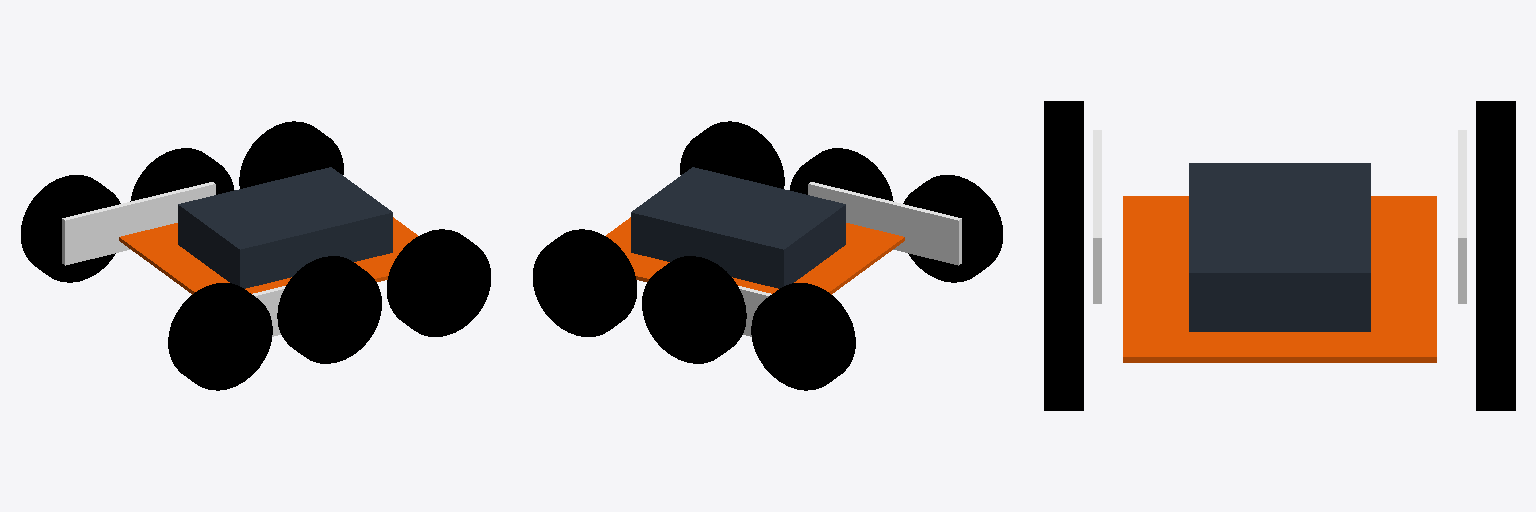
URDF robot description (myool_urdf):
<?xml version="1.0" encoding="utf-8"?>
<!-- This URDF was automatically created by SolidWorks to URDF Exporter! Originally created by [author] ([email redacted]) 
     Commit Version: 1.6.0-1-g15f4949  Build Version: 1.6.7594.29634
     For more information, please see http://wiki.ros.org/sw_urdf_exporter -->
<robot
  name="myool_urdf">
  
  <material name="black">
    <color rgba="0.0 0.0 0.0 1.0"/>
  </material>
  <material name="blue">
    <color rgba="0.203125 0.23828125 0.28515625 1.0"/>
  </material>
  <material name="green">
    <color rgba="0.0 0.8 0.0 1.0"/>
  </material>
  <material name="grey">
    <color rgba="0.2 0.2 0.2 1.0"/>
  </material>
  <material name="orange">
    <color rgba="1.0 0.423529411765 0.0392156862745 1.0"/>
  </material>
  <material name="brown">
    <color rgba="0.870588235294 0.811764705882 0.764705882353 1.0"/>
  </material>
  <material name="red">
    <color rgba="0.80078125 0.12890625 0.1328125 1.0"/>
  </material>
  <material name="white">
    <color rgba="1.0 1.0 1.0 1.0"/>
  </material>
  
  <gazebo reference="base_link">
    <material>Gazebo/Orange</material>
  </gazebo>
  <gazebo reference="myool_front_right_wheel">
    <material>Gazebo/Black</material>
  </gazebo>
  <gazebo reference="myool_front_left_wheel">
    <material>Gazebo/Black</material>
  </gazebo>  
  <gazebo reference="myool_rear_right_rocker_rear_wheel">
    <material>Gazebo/Black</material>
  </gazebo>  
  <gazebo reference="myool_rear_right_rocker_center_wheel">
    <material>Gazebo/Black</material>
  </gazebo>  
  <gazebo reference="myool_rear_left_rocker_rear_wheel">
    <material>Gazebo/Black</material>
  </gazebo>  
  <gazebo reference="myool_rear_left_rocker_center_wheel">
    <material>Gazebo/Black</material>
  </gazebo>  
  <gazebo reference="myool_battery">
    <material>Gazebo/Blue</material>
  </gazebo>    
<!--  
<gazebo>
    
	<plugin filename="libgazebo_ros_diff_drive.so" name="differential_drive_controller">
      <legacyMode>false</legacyMode>
      <alwaysOn>true</alwaysOn>
      <updateRate>20</updateRate>
      <leftJoint>myool_rear_left_rocker_center_joint</leftJoint>
	  <leftJoint>myool_front_left_joint</leftJoint>
	  <leftJoint>myool_rear_left_rocker_rear_joint</leftJoint>
      <rightJoint>myool_rear_right_rocker_rear_joint</rightJoint>
	  <rightJoint>myool_front_right_joint</rightJoint>
	  <rightJoint>myool_rear_right_rocker_center_joint</rightJoint>
      <wheelSeparation>0.47472</wheelSeparation>
      <wheelDiameter>0.170</wheelDiameter>
      <torque>3.0</torque>
      <commandTopic>cmd_vel</commandTopic>
      <odometryTopic>odom</odometryTopic>
      <odometryFrame>odom</odometryFrame>
      <robotBaseFrame>base_link</robotBaseFrame>
    </plugin>
  </gazebo>
  

<gazebo>
  <plugin name="skid_steer_drive_controller" filename="libgazebo_ros_skid_steer_drive.so">
    <updateRate>20</updateRate>
    <robotNamespace>/</robotNamespace>
    <leftFrontJoint>myool_front_left_joint</leftFrontJoint>
    <rightFrontJoint>myool_front_right_joint</rightFrontJoint>
    <leftRearJoint>myool_rear_left_rocker_center_joint</leftRearJoint>
    <rightRearJoint>myool_rear_right_rocker_center_joint</rightRearJoint>
	<leftRearJoint>myool_rear_left_rocker_rear_joint</leftRearJoint>
    <rightRearJoint>myool_rear_right_rocker_rear_joint</rightRearJoint>
    <wheelSeparation>0.47472</wheelSeparation>
    <wheelDiameter>0.170</wheelDiameter>
    <robotBaseFrame>base_link</robotBaseFrame>
    <torque>2</torque>
    <topicName>cmd_vel</topicName>
    <broadcastTF>false</broadcastTF>
  </plugin>
</gazebo>
-->

  <gazebo>
    
	<plugin filename="libgazebo_ros_control.so" name="gazebo_ros_control">
    </plugin>
  </gazebo>
  
  <link
    name="base_link">
	<pose>0 0 0.08 0 0 0</pose>
    <inertial>
      <origin
        xyz="0 0 0"
        rpy="0 0 0" />
      <mass
        value="2.8701" />
      <inertia
        ixx="0.019918"
        ixy="0"
        ixz="0"
        iyy="0.042638"
        iyz="0"
        izz="0.061874" />
    </inertial>
    <visual>
      <origin
        xyz="0 0 0"
        rpy="0 0 0" />
      <geometry>
        <box size="0.42 0.345 0.007" />
      </geometry>
      <material
        name="orange">
      </material>
    </visual>
    <collision>
      <origin
        xyz="0 0 0"
        rpy="0 0 0" />
      <geometry>
        <box size="0.42 0.345 0.007" />
      </geometry>
    </collision>
  </link>
  <link
    name="myool_front_right_wheel">
    <inertial>
      <origin
        xyz="0 0 0"
        rpy="0 1.5707 1.5707" />
      <mass
        value="2.2" />
      <inertia
        ixx="0.005892"
        ixy="0"
        ixz="0"
        iyy="0.005892"
        iyz="0"
        izz="0.010838" />
    </inertial>
    <visual>
      <origin
        xyz="0 0 0"
        rpy="0 1.5707 1.5707" />
      <geometry>
        <cylinder length="0.0435" radius="0.085"/>
      </geometry>
      <material
        name="black">
      </material>
    </visual>
    <collision>
      <origin
        xyz="0 0 0"
        rpy="0 1.5707 1.5707" />
      <geometry>
        <cylinder length="0.0435" radius="0.085"/>
      </geometry>
    </collision>
  </link>
  <joint
    name="myool_front_right_joint"
    type="continuous">
    <origin
      xyz="0.14829 -0.23736 0.003175"
      rpy="0 0 0" />
    <parent
      link="base_link" />
    <child
      link="myool_front_right_wheel" />
    <axis
      xyz="0 1 0" />
	<limit effort="10000" velocity="100"/>
    <joint_properties damping="1.0" friction="1.0"/>
  </joint>
   <link
    name="myool_front_left_wheel">
    <inertial>
      <origin
        xyz="0 0 0"
        rpy="0 1.5707 1.5707" />
      <mass
        value="2.2" />
      <inertia
        ixx="0.005892"
        ixy="0"
        ixz="0"
        iyy="0.005892"
        iyz="0"
        izz="0.010838" />
	</inertial>
    <visual>
      <origin
        xyz="0 0 0"
        rpy="0 1.5707 1.5707" />
      <geometry>
        <cylinder length="0.0435" radius="0.085"/>
      </geometry>
      <material
        name="black">
      </material>
    </visual>
    <collision>
      <origin
        xyz="0 0 0"
        rpy="0 1.5707 1.5707" />
      <geometry>
        <cylinder length="0.0435" radius="0.085"/>
      </geometry>
    </collision>
  </link>
  <joint
    name="myool_front_left_joint"
    type="continuous">
    <origin
      xyz="0.14829 0.23736 0.003175"
      rpy="0 0 0" />
    <parent
      link="base_link" />
    <child
      link="myool_front_left_wheel" />
    <axis
      xyz="0 1 0" />
	<limit effort="10000" velocity="100"/>
    <joint_properties damping="1.0" friction="1.0"/>  
  </joint>
   <link
    name="myool_rear_right_rocker">
    <inertial>
      <origin
        xyz="0 0 0"
        rpy="0 0 0" />
      <mass
        value="0.32911" />
      <inertia
        ixx="0.00015526"
        ixy="0"
        ixz="0"
        iyy="0.0020318"
        iyz="0"
        izz="0.0018788" />
    </inertial>
    <visual>
      <origin
        xyz="0 0 0"
        rpy="0 0 0" />
      <geometry>
        <box size="0.28 0.01 0.08" />
      </geometry>
      <material
        name="white">
      </material>
    </visual>
    <collision>
      <origin
        xyz="0 0 0"
        rpy="0 0 0" />
      <geometry>
        <box size="0.28 0.01 0.08" />
      </geometry>
    </collision>
  </link>
  <joint
    name="myool_rear_right_joint"
    type="revolute">
    <origin
      xyz="-0.15651 -0.20097 0.003175"
      rpy="0 0 0" />
    <parent
      link="base_link" />
    <child
      link="myool_rear_right_rocker" />
    <axis
      xyz="0 1 0" />
	  <limit effort="10000" velocity="100" upper="0.523"/>
	  <joint_properties damping="0.0" friction="0"/>
  </joint>
  <link
    name="myool_rear_right_rocker_rear_wheel">
    <inertial>
      <origin
        xyz="0 0 0"
        rpy="0 1.5707 1.5707" />
      <mass
        value="2.2" />
      <inertia
        ixx="0.005892"
        ixy="0"
        ixz="0"
        iyy="0.005892"
        iyz="0"
        izz="0.010838" />
    </inertial>
    <visual>
      <origin
        xyz="0 0 0"
        rpy="0 1.5707 1.5707" />
      <geometry>
        <cylinder length="0.0435" radius="0.085"/>
      </geometry>
      <material
        name="black">
      </material>
    </visual>
    <collision>
      <origin
        xyz="0 0 0"
        rpy="0 1.5707 1.5707" />
      <geometry>
        <cylinder length="0.0435" radius="0.085"/>
      </geometry>
    </collision>
  </link>
  <joint
    name="myool_rear_right_rocker_rear_joint"
    type="continuous">
    <origin
      xyz="-0.25811 -0.23736 0.003175"
      rpy="0 0 0" />
    <parent
      link="base_link" />
    <child
      link="myool_rear_right_rocker_rear_wheel" />
    <axis
      xyz="0 1 0" />
	<limit effort="10000" velocity="100"/>
    <joint_properties damping="1.0" friction="1.0"/>
  </joint> 
    <link
    name="myool_rear_right_rocker_center_wheel">
    <inertial>
      <origin
        xyz="0 0 0"
        rpy="0 1.5707 1.5707" />
      <mass
        value="2.2" />
      <inertia
        ixx="0.005892"
        ixy="0"
        ixz="0"
        iyy="0.005892"
        iyz="0"
        izz="0.010838" />
    </inertial>
    <visual>
      <origin
        xyz="0 0 0"
        rpy="0 1.5707 1.5707" />
      <geometry>
        <cylinder length="0.0435" radius="0.085"/>
      </geometry>
      <material
        name="black">
      </material>
    </visual>
    <collision>
      <origin
        xyz="0 0 0"
        rpy="0 1.5707 1.5707" />
      <geometry>
        <cylinder length="0.0435" radius="0.085"/>
      </geometry>
    </collision>
  </link>
  <joint
    name="myool_rear_right_rocker_center_joint"
    type="continuous">
    <origin
      xyz="-0.05491 -0.23736 0.003175"
      rpy="0 0 0" />
    <parent
      link="base_link" />
    <child
      link="myool_rear_right_rocker_center_wheel" />
    <axis
      xyz="0 1 0" />
	<limit effort="10000" velocity="100"/>
    <joint_properties damping="1.0" friction="1.0"/>  
  </joint>
  <link
    name="myool_rear_left_rocker">
    <inertial>
      <origin
        xyz="0 0 0"
        rpy="0 0 0" />
      <mass
        value="0.32911" />
      <inertia
        ixx="0.00015526"
        ixy="0"
        ixz="0"
        iyy="0.0020318"
        iyz="0"
        izz="0.0018788" />
    </inertial>
    <visual>
      <origin
        xyz="0 0 0"
        rpy="0 0 0" />
      <geometry>
        <box size="0.28 0.01 0.08" />
      </geometry>
      <material
        name="white">
      </material>
    </visual>
    <collision>
      <origin
        xyz="0 0 0"
        rpy="0 0 0" />
      <geometry>
        <box size="0.28 0.01 0.08" />
      </geometry>
    </collision>
  </link>
  <joint
    name="myool_rear_left_joint"
    type="revolute">
    <origin
      xyz="-0.15651 0.20097 0.003175"
      rpy="0 0 0" />
    <parent
      link="base_link" />
    <child
      link="myool_rear_left_rocker" />
    <axis
      xyz="0 1 0" />
	  <limit effort="10000" velocity="100" upper="0.523"/>
	  <joint_properties damping="0" friction="0"/>
  </joint>
  <link
    name="myool_rear_left_rocker_rear_wheel">
    <inertial>
      <origin
        xyz="0 0 0"
        rpy="0 1.5707 1.5707" />
      <mass
        value="2.2" />
      <inertia
        ixx="0.005892"
        ixy="0"
        ixz="0"
        iyy="0.005892"
        iyz="0"
        izz="0.010838" />
    </inertial>
    <visual>
      <origin
        xyz="0 0 0"
        rpy="0 1.5707 1.5707" />
      <geometry>
        <cylinder length="0.0435" radius="0.085"/>
      </geometry>
      <material
        name="black">
      </material>
    </visual>
    <collision>
      <origin
        xyz="0 0 0"
        rpy="0 1.5707 1.5707" />
      <geometry>
        <cylinder length="0.0435" radius="0.085"/>
      </geometry>
    </collision>
  </link>
  <joint
    name="myool_rear_left_rocker_rear_joint"
    type="continuous">
    <origin
      xyz="-0.25811 0.23736 0.003175"
      rpy="0 0 0" />
    <parent
      link="base_link" />
    <child
      link="myool_rear_left_rocker_rear_wheel" />
    <axis
      xyz="0 1 0" />
	<limit effort="10000" velocity="100"/>
    <joint_properties damping="1.0" friction="1.0"/>  
  </joint>
  <link
    name="myool_rear_left_rocker_center_wheel">
    <inertial>
      <origin
        xyz="0 0 0"
        rpy="0 1.5707 1.5707" />
      <mass
        value="2.2" />
      <inertia
        ixx="0.005892"
        ixy="0"
        ixz="0"
        iyy="0.005892"
        iyz="0"
        izz="0.010838" />
    </inertial>
    <visual>
      <origin
        xyz="0 0 0"
        rpy="0 1.5707 1.5707" />
      <geometry>
        <cylinder length="0.0435" radius="0.085"/>
      </geometry>
      <material
        name="black">
      </material>
    </visual>
    <collision>
      <origin
        xyz="0 0 0"
        rpy="0 1.5707 1.5707" />
      <geometry>
        <cylinder length="0.0435" radius="0.085"/>
      </geometry>
    </collision>
  </link>
  <joint
    name="myool_rear_left_rocker_center_joint"
    type="continuous">
    <origin
      xyz="-0.05491 0.23736 0.003175"
      rpy="0 0 0" />
    <parent
      link="base_link" />
    <child
      link="myool_rear_left_rocker_center_wheel" />
    <axis
      xyz="0 1 0" />
	<limit effort="10000" velocity="100"/>
    <joint_properties damping="1.0" friction="1.0"/>  
  </joint>
  <link
    name="myool_battery">
    <inertial>
      <origin
        xyz="0 0 0"
        rpy="0 0 0" />
      <mass
        value="7" />
      <inertia
        ixx="6.716561"
        ixy="0"
        ixz="0"
        iyy="13.36388"
        iyz="0"
        izz="4.891684" />
    </inertial>
    <visual>
      <origin
        xyz="0 0 0"
        rpy="0 0 0" />
      <geometry>
        <box size="0.285 0.20 0.075" />
      </geometry>
      <material
        name="blue">
      </material>
    </visual>
    <collision>
      <origin
        xyz="0 0 0"
        rpy="0 0 0" />
      <geometry>
        <box size="0.285 0.20 0.075" />
      </geometry>
    </collision>
  </link>
  <joint
    name="myool_battery_joint"
    type="fixed">
    <origin
      xyz="0 0 0.0375"
      rpy="0 0 0" />
    <parent
      link="base_link" />
    <child
      link="myool_battery" />
    <axis
      xyz="0 0 0" />
  </joint>  
  
	<transmission name="myool_front_left_transmission">
	  <type>transmission_interface/SimpleTransmission</type>
	  <joint name="myool_front_left_joint">
		<hardwareInterface>hardware_interface/VelocityJointInterface</hardwareInterface>  
	  </joint>
	  <actuator name="myool_front_left_actuator">
		<mechanicalReduction>7</mechanicalReduction>
		<hardwareInterface>VelocityJointInterface</hardwareInterface>
	  </actuator>
	</transmission>

	<transmission name="myool_front_right_transmission">
	  <type>transmission_interface/SimpleTransmission</type>
	  <joint name="myool_front_right_joint">
		<hardwareInterface>hardware_interface/VelocityJointInterface</hardwareInterface>  
	  </joint>
	  <actuator name="myool_front_right_actuator">
		<mechanicalReduction>7</mechanicalReduction>
		<hardwareInterface>VelocityJointInterface</hardwareInterface>
	  </actuator>
	</transmission>
	
	<transmission name="myool_rear_left_rocker_center_transmission">
	  <type>transmission_interface/SimpleTransmission</type>
	  <joint name="myool_rear_left_rocker_center_joint">
		<hardwareInterface>hardware_interface/VelocityJointInterface</hardwareInterface>  
	  </joint>
	  <actuator name="myool_rear_left_rocker_center_actuator">
		<mechanicalReduction>7</mechanicalReduction>
		<hardwareInterface>VelocityJointInterface</hardwareInterface>
	  </actuator>
	</transmission>

	<transmission name="myool_rear_right_rocker_center_transmission">
	  <type>transmission_interface/SimpleTransmission</type>
	  <joint name="myool_rear_right_rocker_center_joint">
		<hardwareInterface>hardware_interface/VelocityJointInterface</hardwareInterface>  
	  </joint>
	  <actuator name="myool_rear_right_rocker_center_actuator">
		<mechanicalReduction>7</mechanicalReduction>
		<hardwareInterface>VelocityJointInterface</hardwareInterface>
	  </actuator>
	</transmission>
	
	<transmission name="myool_rear_left_rocker_rear_transmission">
	  <type>transmission_interface/SimpleTransmission</type>
	  <joint name="myool_rear_left_rocker_rear_joint">
		<hardwareInterface>hardware_interface/VelocityJointInterface</hardwareInterface>  
	  </joint>
	  <actuator name="myool_rear_left_rocker_rear_actuator">
		<mechanicalReduction>7</mechanicalReduction>
		<hardwareInterface>VelocityJointInterface</hardwareInterface>
	  </actuator>
	</transmission>

	<transmission name="myool_rear_right_rocker_rear_transmission">
	  <type>transmission_interface/SimpleTransmission</type>
	  <joint name="myool_rear_right_rocker_rear_joint">
		<hardwareInterface>hardware_interface/VelocityJointInterface</hardwareInterface>  
	  </joint>
	  <actuator name="myool_rear_right_rocker_rear_actuator">
		<mechanicalReduction>7</mechanicalReduction>
		<hardwareInterface>VelocityJointInterface</hardwareInterface>
	  </actuator>
	</transmission>
</robot>

--- What the picture shows (computed from the rendered views, not written in the file) ---
Views: 3 orthographic renders of the robot side by side, from view 1: azimuth 30°, elevation 25°; view 2: azimuth 150°, elevation 25°; view 3: azimuth 270°, elevation 25°.
Robot: myool_urdf — 10 links, 9 joints (2 revolute, 6 continuous, 1 fixed); root link base_link; default pose: every joint at zero.
Visible links, largest first — view 1: myool_battery, myool_rear_right_rocker_center_wheel, myool_rear_right_rocker_rear_wheel, myool_front_right_wheel, myool_rear_left_rocker_rear_wheel, myool_rear_left_rocker, base_link, myool_front_left_wheel, myool_rear_left_rocker_center_wheel, myool_rear_right_rocker; view 2: myool_battery, myool_rear_left_rocker_center_wheel, myool_rear_left_rocker_rear_wheel, myool_front_left_wheel, myool_rear_right_rocker_rear_wheel, myool_rear_right_rocker, base_link, myool_front_right_wheel, myool_rear_right_rocker_center_wheel, myool_rear_left_rocker; view 3: myool_battery, base_link, myool_front_right_wheel, myool_front_left_wheel, myool_rear_right_rocker_rear_wheel, myool_rear_right_rocker_center_wheel, myool_rear_left_rocker_rear_wheel, myool_rear_left_rocker_center_wheel, myool_rear_right_rocker, myool_rear_left_rocker.
Link boxes in pixels (x1,y1,x2,y2): myool_battery: [178, 167, 392, 288]; myool_rear_right_rocker_center_wheel: [277, 256, 381, 363]; myool_rear_right_rocker_rear_wheel: [168, 283, 272, 390]; myool_front_right_wheel: [387, 229, 490, 336]; myool_rear_left_rocker_rear_wheel: [21, 175, 120, 282]; myool_rear_left_rocker: [62, 182, 215, 265]; base_link: [119, 217, 417, 294]; myool_front_left_wheel: [239, 121, 343, 188]; myool_rear_left_rocker_center_wheel: [130, 148, 233, 201]; myool_rear_right_rocker: [252, 286, 285, 336]; myool_battery: [631, 167, 845, 288]; myool_rear_left_rocker_center_wheel: [642, 256, 746, 363]; myool_rear_left_rocker_rear_wheel: [751, 283, 855, 390]; myool_front_left_wheel: [533, 229, 636, 336]; myool_rear_right_rocker_rear_wheel: [903, 175, 1002, 282]; myool_rear_right_rocker: [808, 182, 961, 265]; base_link: [606, 217, 904, 294]; myool_front_right_wheel: [680, 121, 784, 188]; myool_rear_right_rocker_center_wheel: [790, 148, 893, 201]; myool_rear_left_rocker: [738, 286, 771, 336]; myool_battery: [1189, 163, 1370, 331]; base_link: [1123, 196, 1436, 362]; myool_front_right_wheel: [1044, 257, 1083, 410]; myool_front_left_wheel: [1476, 257, 1515, 410]; myool_rear_right_rocker_rear_wheel: [1044, 101, 1083, 178]; myool_rear_right_rocker_center_wheel: [1044, 179, 1083, 256]; myool_rear_left_rocker_rear_wheel: [1476, 101, 1515, 178]; myool_rear_left_rocker_center_wheel: [1476, 179, 1515, 256]; myool_rear_right_rocker: [1093, 130, 1101, 303]; myool_rear_left_rocker: [1458, 130, 1466, 303].
Size in the robot's own frame: 0.5764 by 0.5182 by 0.17 metres.
Geometry: primitives only (box / cylinder / sphere), no mesh files.